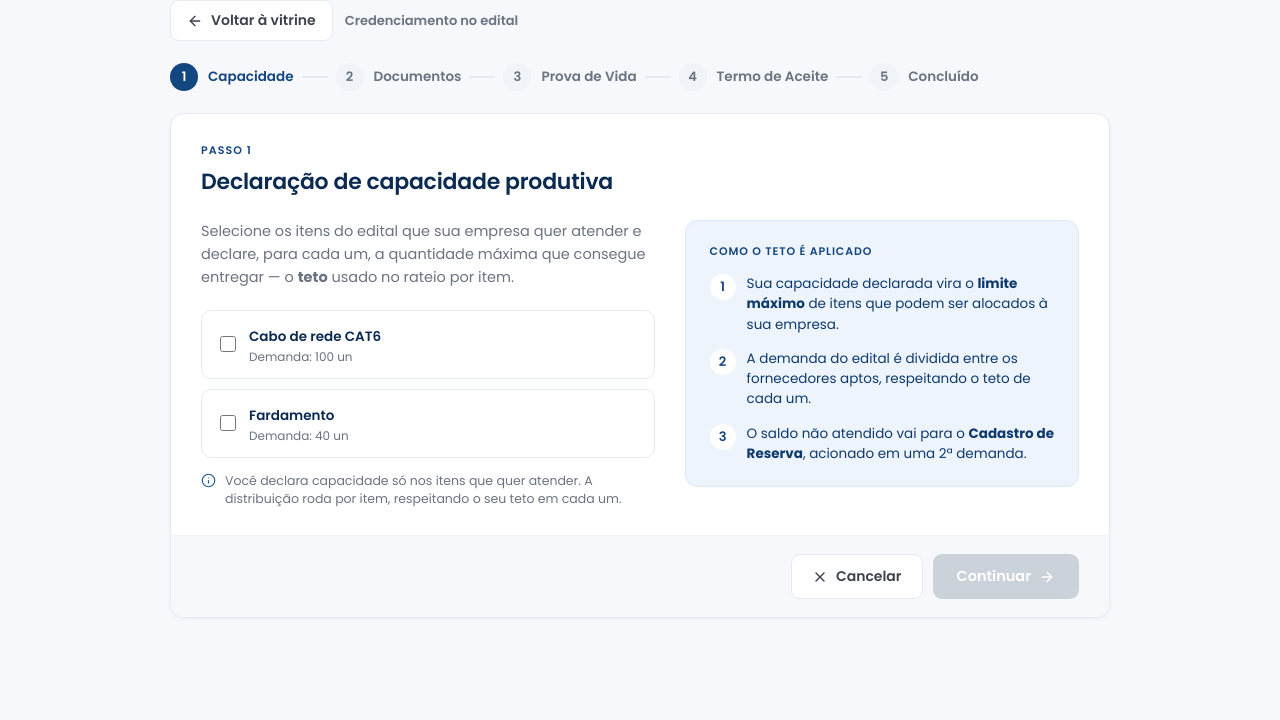
Test: Credenciamento — wizard por Termo de Aceite (UC004 + prova de vida UC007) › expõe a etapa de prova de vida entre Documentos e Termo (UC007)
The width and height of the screenshot is (1280, 720).
Click the 1st checkbox with test id "capacidade-item-check": (228, 344) [220,336,236,352]
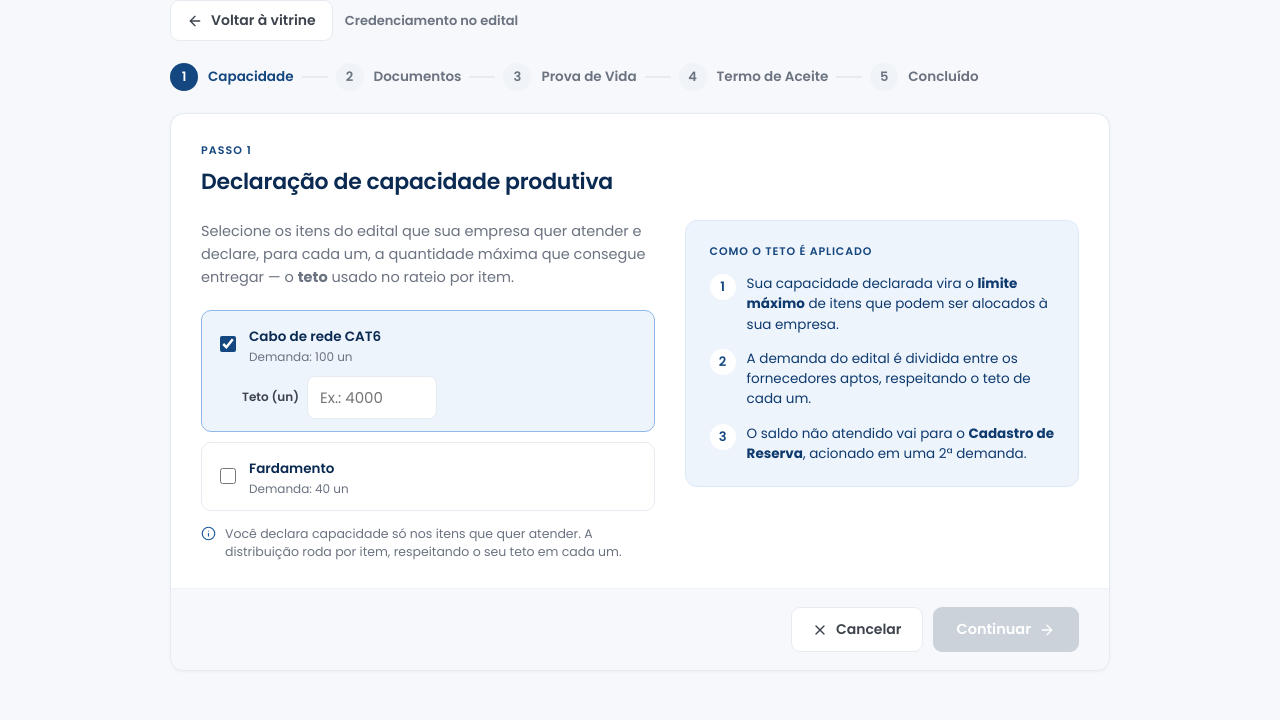
In the number field with test id "capacidade-item-teto": (372, 397) [307,376,437,419], type "500"
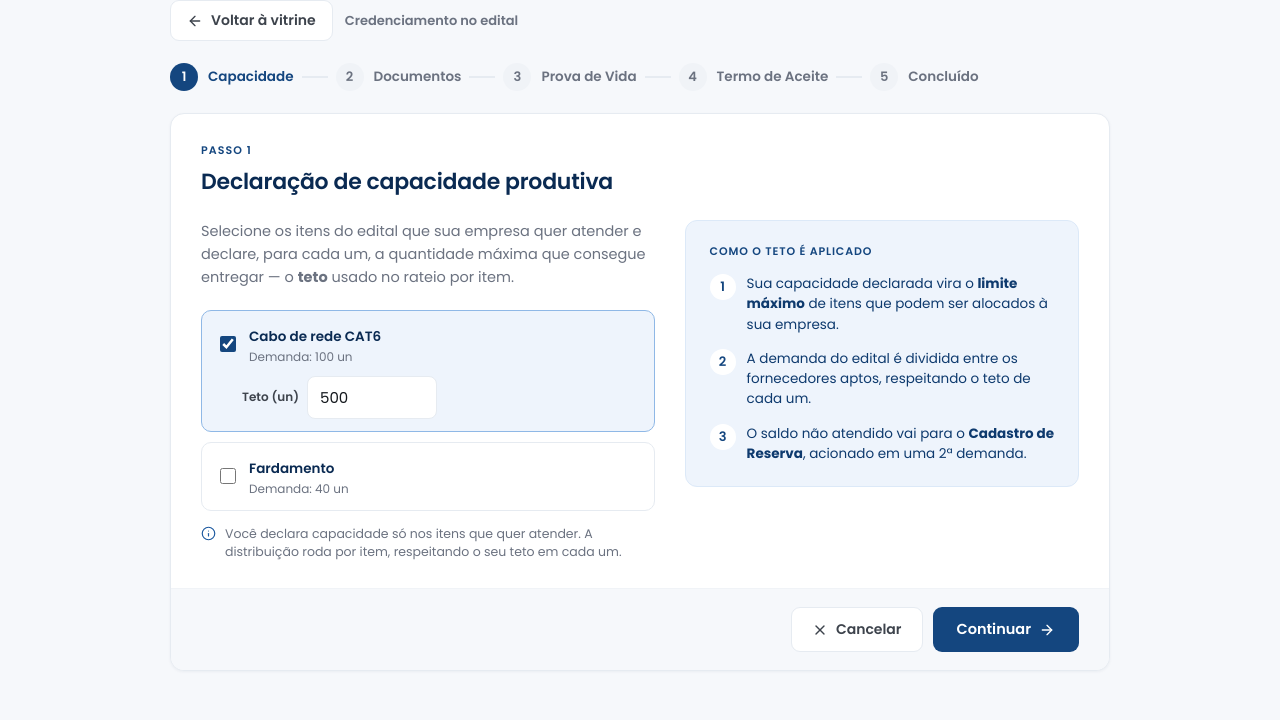
Click the button with test id "avancar": (1006, 630) [932,607,1079,652]
(page scrolled)
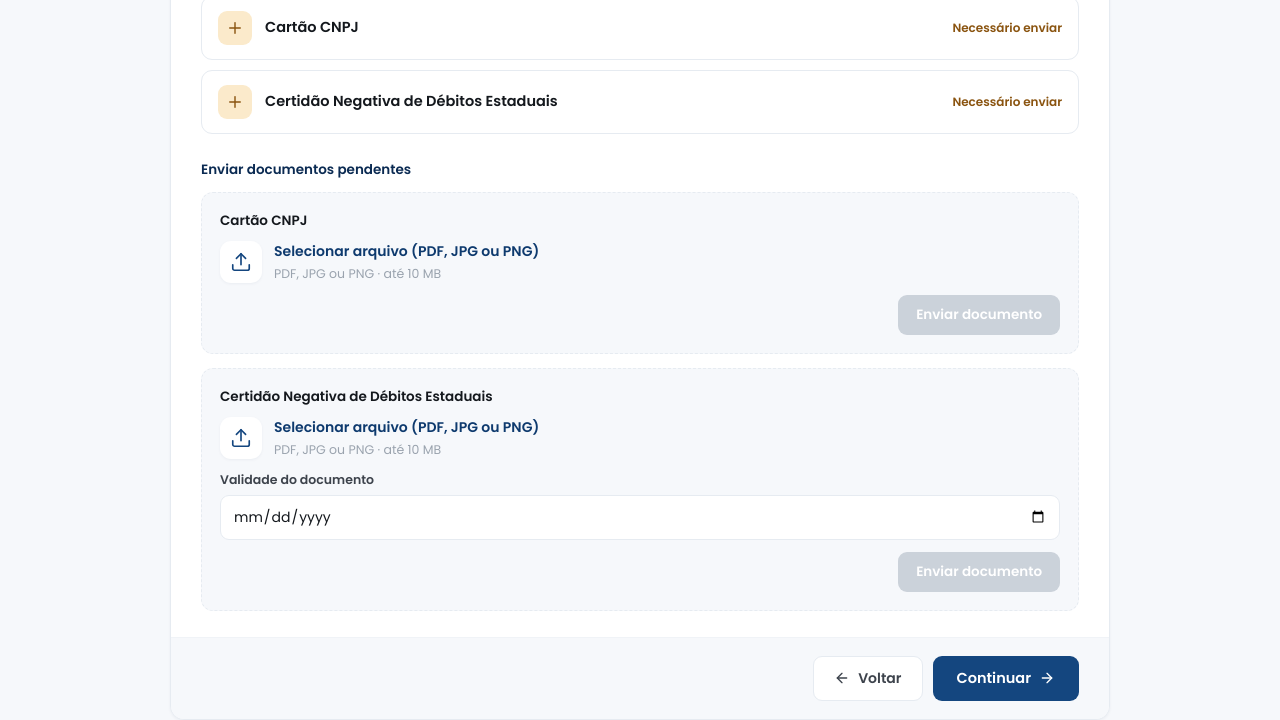
Click the button with test id "avancar": (1006, 678) [932,656,1079,701]
(page scrolled)
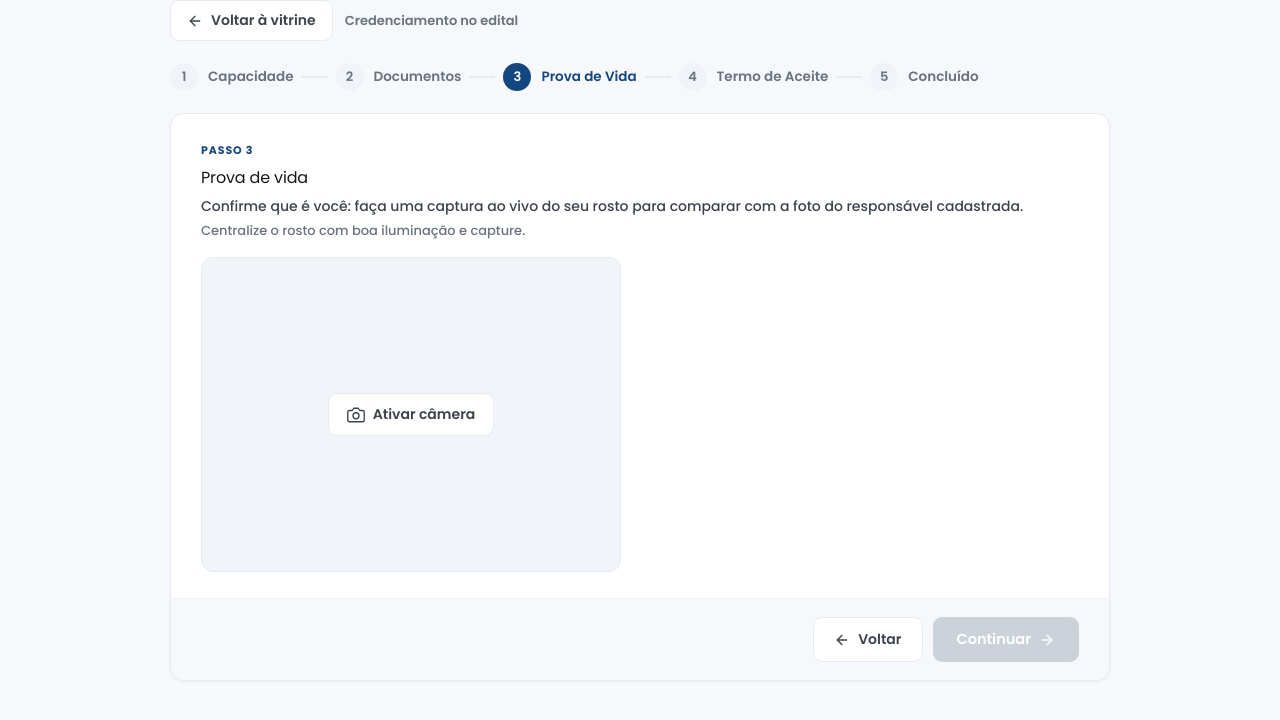
Now the element with test id "prova-de-vida" is shown, box [201,142,1079,572]
Now the button with test id "avancar" is disabled, box [932,617,1079,662]
